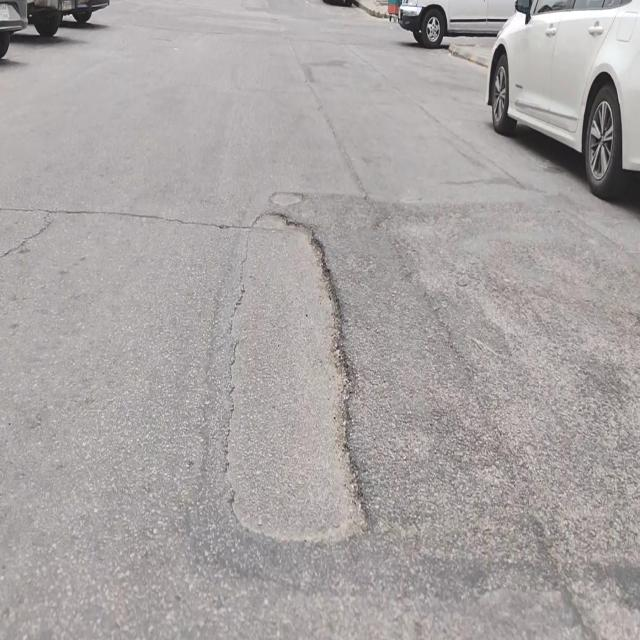Potholes: (223, 211, 371, 551), (268, 190, 305, 206)
